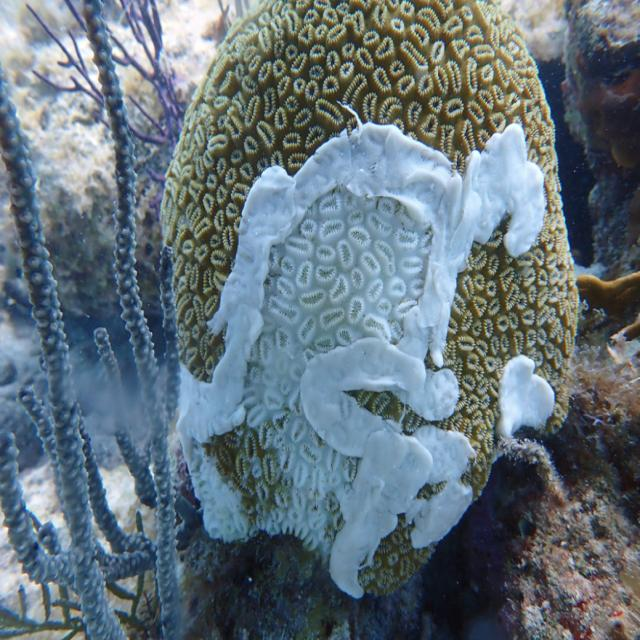Coral: (160, 0, 580, 600), (0, 0, 184, 640)
